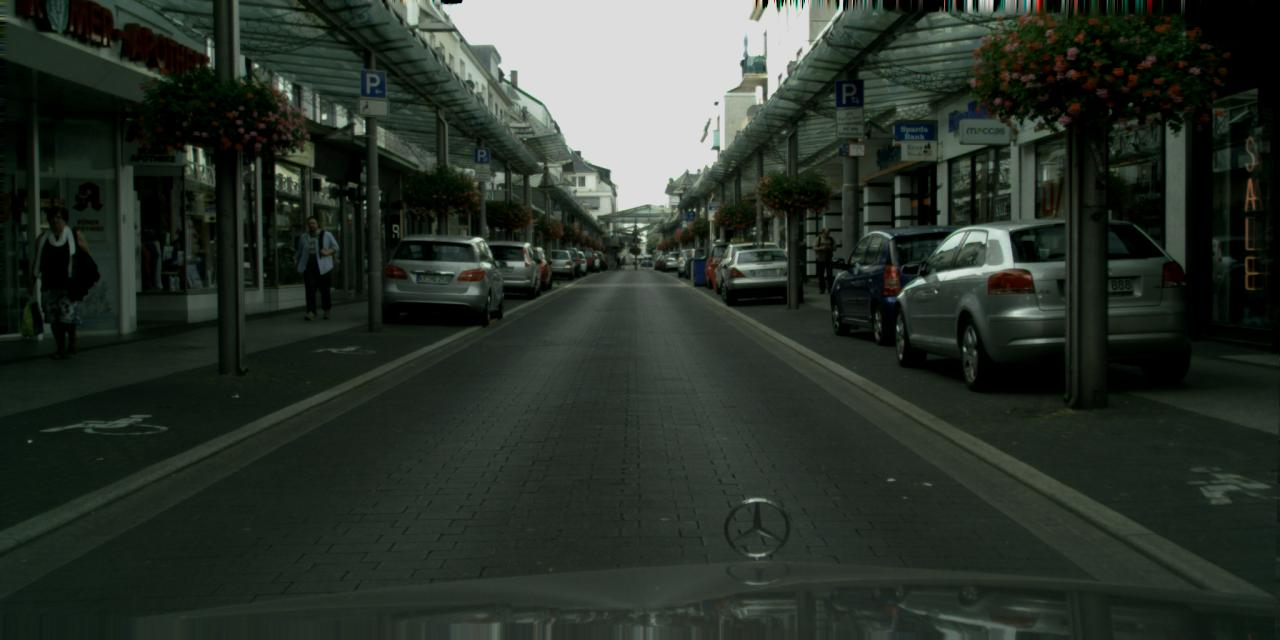ped: (30, 206, 91, 356), (296, 216, 336, 316), (812, 227, 838, 292), (620, 256, 626, 268), (616, 254, 621, 268)
